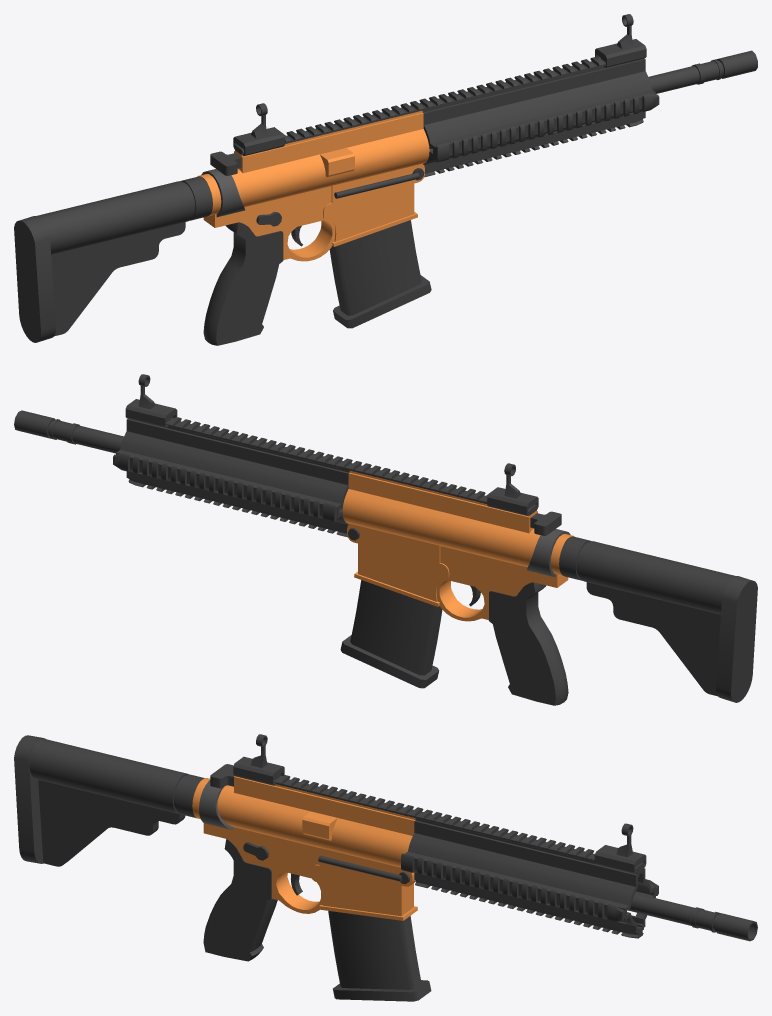
The picture shows the model from 3 angles, top to bottom: view 1: azimuth 30°, elevation 25°; view 2: azimuth 150°, elevation 25°; view 3: azimuth 330°, elevation 25°; orthographic projection.
Visible parts, largest first — view 1: HK417A2; view 2: HK417A2; view 3: HK417A2.
Boxes of the visible parts, x1,y1,x2,y2 form: HK417A2: (14, 14, 757, 345); HK417A2: (14, 374, 757, 705); HK417A2: (14, 734, 757, 1001).
Size of the model in its own units: 0.8054 by 0.2521 by 0.0699.
